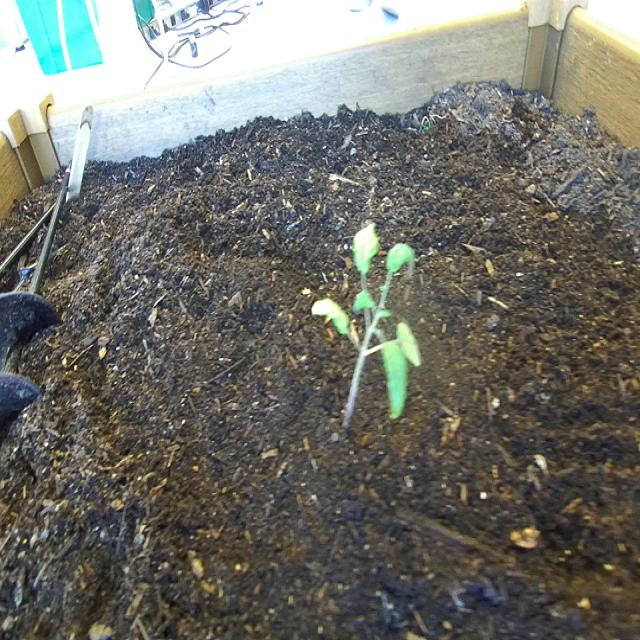Healthy: (306, 212, 431, 438)
